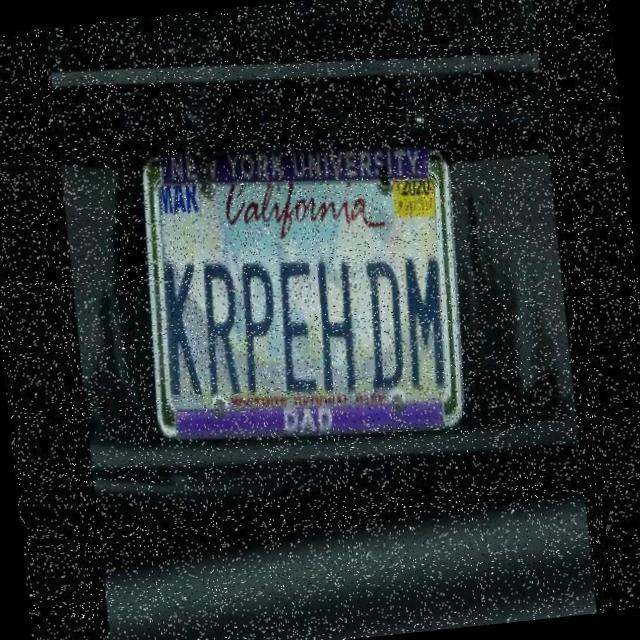LicensePlate: (139, 123, 458, 448)
